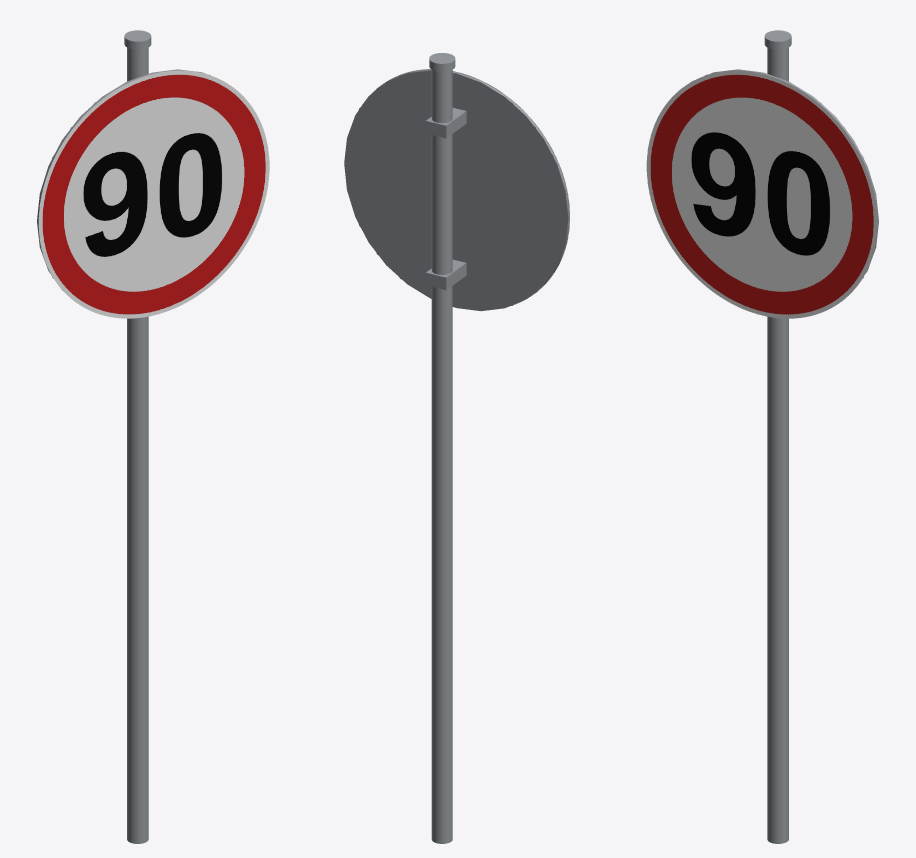
File: sign_speed90kph.dae
The picture shows the model from 3 angles, left to right: view 1: azimuth 30°, elevation 25°; view 2: azimuth 150°, elevation 25°; view 3: azimuth 330°, elevation 25°; orthographic projection. The views are drawn at different scales.
Visible parts, largest first — view 1: sign128, sign48, sign4; view 2: sign128, sign48, sign4; view 3: sign128, sign48, sign4.
Part boxes in pixels (x1=…): sign128: x1=37, y1=30, x2=269, y2=843; sign48: x1=52, y1=30, x2=210, y2=843; sign4: x1=70, y1=30, x2=150, y2=843; sign128: x1=344, y1=53, x2=569, y2=843; sign48: x1=344, y1=53, x2=567, y2=843; sign4: x1=344, y1=53, x2=567, y2=843; sign128: x1=646, y1=30, x2=878, y2=843; sign48: x1=705, y1=30, x2=863, y2=843; sign4: x1=765, y1=30, x2=845, y2=843.
Bounding box in the file's own units: 0.9 × 0.1275 × 2.47.
2 materials, 1 textured.
